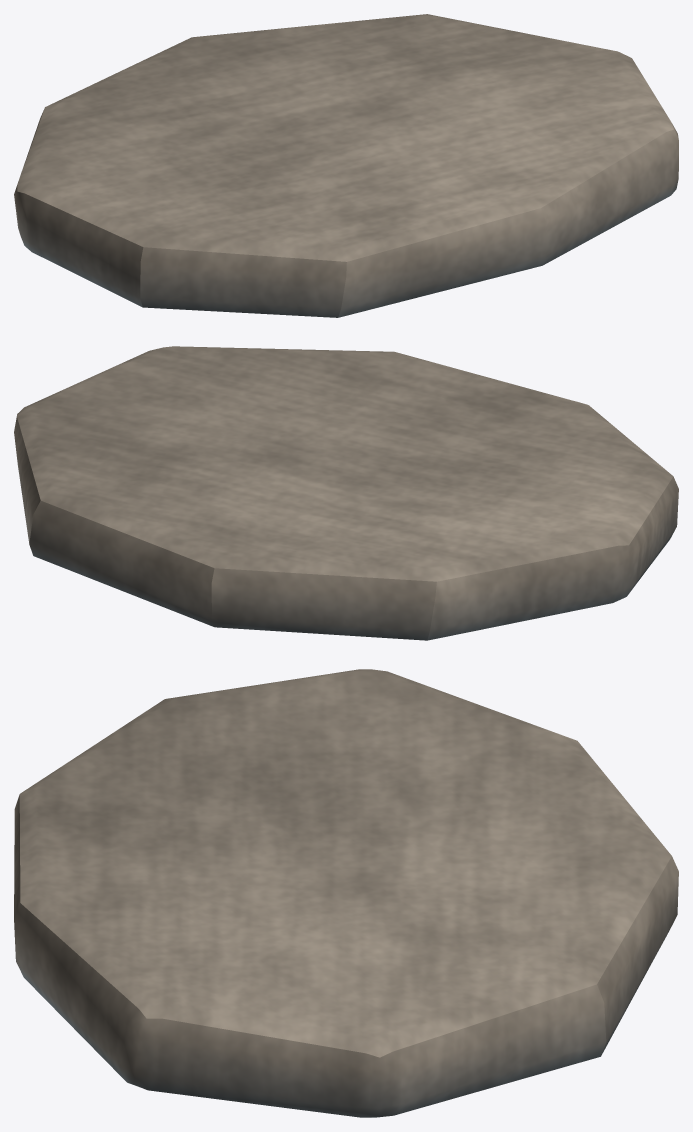
Rendered from path_stone.glb.
The picture shows the model from 3 angles, top to bottom: view 1: azimuth 30°, elevation 25°; view 2: azimuth 150°, elevation 25°; view 3: azimuth 270°, elevation 25°; orthographic projection. The views are drawn at different scales.
Parts seen in each view (by area): view 1: PathStone; view 2: PathStone; view 3: PathStone.
Boxes of the visible parts, left/top/right/bottom form: PathStone: left=14, top=14, right=678, bottom=317; PathStone: left=14, top=346, right=678, bottom=640; PathStone: left=14, top=669, right=678, bottom=1117.
Bounding box in the file's own units: 0.9226 × 0.1178 × 0.7044.
Materials: 1 (1 with a texture image).
